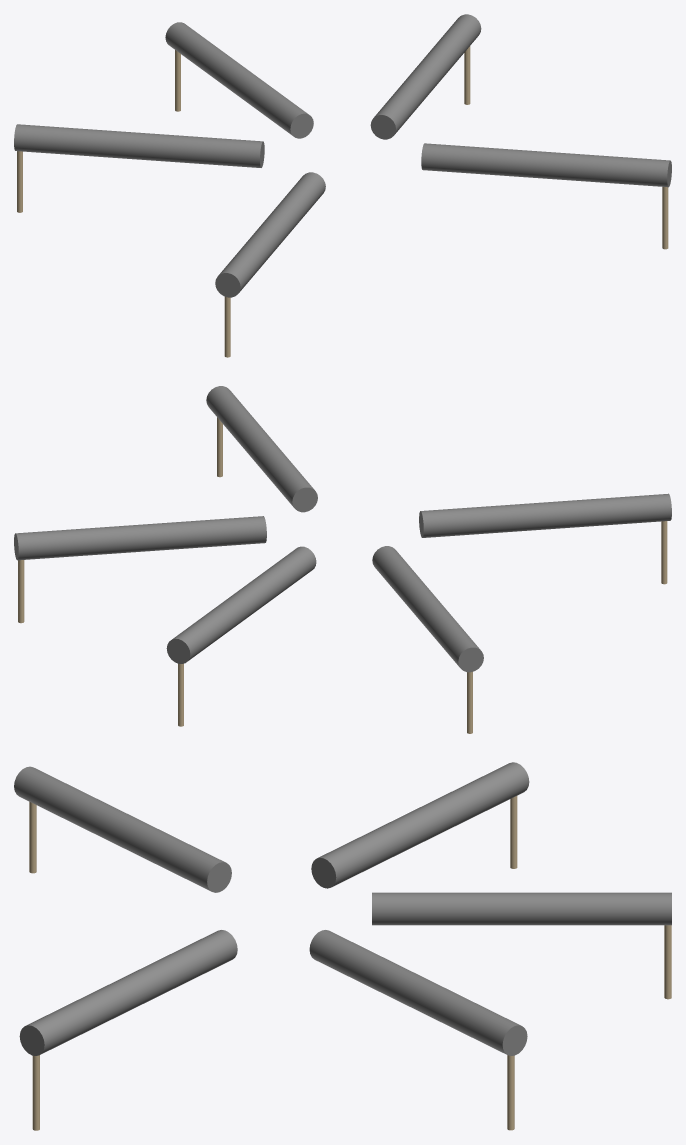
The model's file is Giratorio1_cuna.obj.
The picture shows the model from 3 angles, top to bottom: view 1: azimuth 30°, elevation 25°; view 2: azimuth 150°, elevation 25°; view 3: azimuth 270°, elevation 25°; orthographic projection. The views are drawn at different scales.
Parts seen in each view (by area): view 1: polySurface124; view 2: polySurface124; view 3: polySurface124.
Part boxes in pixels (box(x1,y1,x2,y2)): polySurface124: box(14, 14, 671, 357); polySurface124: box(14, 386, 671, 733); polySurface124: box(14, 762, 671, 1130).
Bounding box in the file's own units: 0.6202 × 0.1107 × 0.6306.
1 material, 1 textured.
